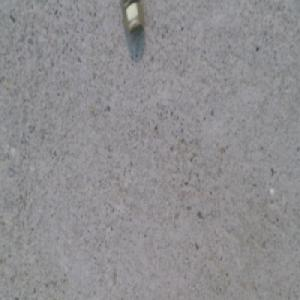BoltNutSet: (121, 0, 141, 38)
